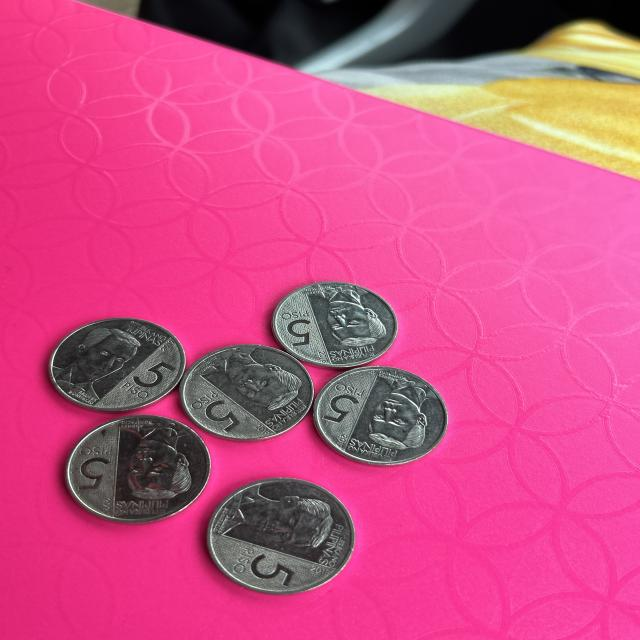5_New_Front: (226, 542, 296, 588), (182, 389, 238, 432), (276, 304, 328, 350), (73, 440, 118, 492), (122, 355, 172, 399), (319, 384, 367, 428)
